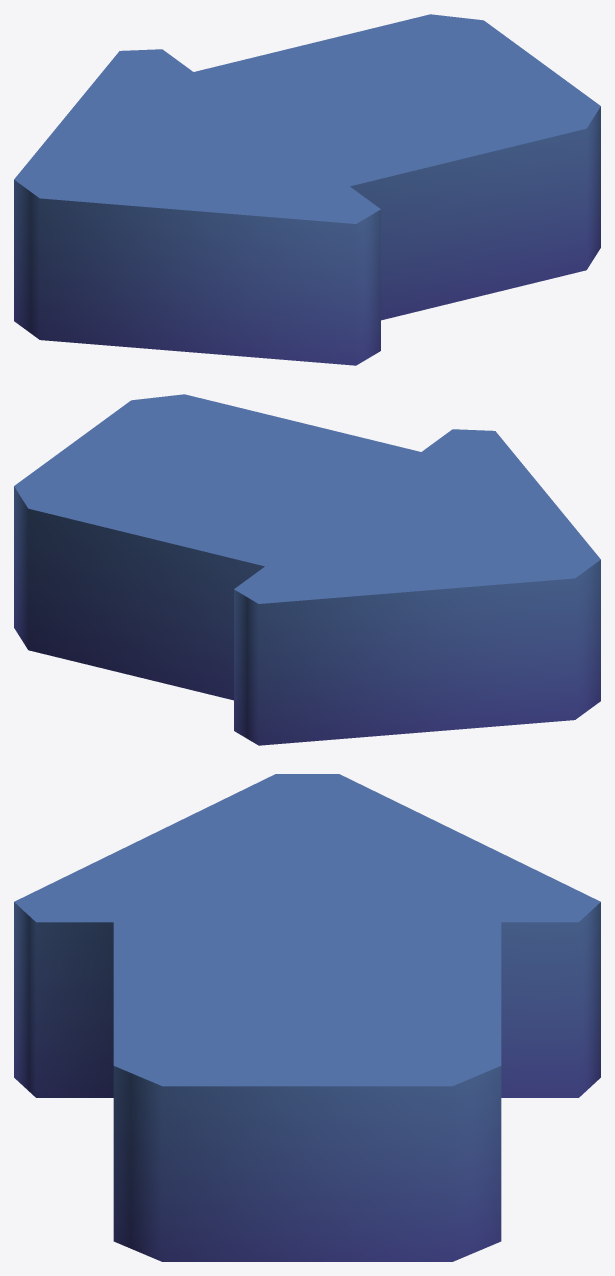
Rendered from arrow-rounded.glb.
3 views of the same model, one above another, from view 1: azimuth 30°, elevation 25°; view 2: azimuth 150°, elevation 25°; view 3: azimuth 270°, elevation 25° (orthographic). The views are drawn at different scales.
Parts seen in each view (by area): view 1: arrow-rounded; view 2: arrow-rounded; view 3: arrow-rounded.
Part boxes in pixels (x1,y1,x2,y2): arrow-rounded: [14, 14, 600, 365]; arrow-rounded: [14, 394, 600, 745]; arrow-rounded: [14, 774, 600, 1261].
Bounding box in the file's own units: 0.7618 × 0.2 × 0.6055.
